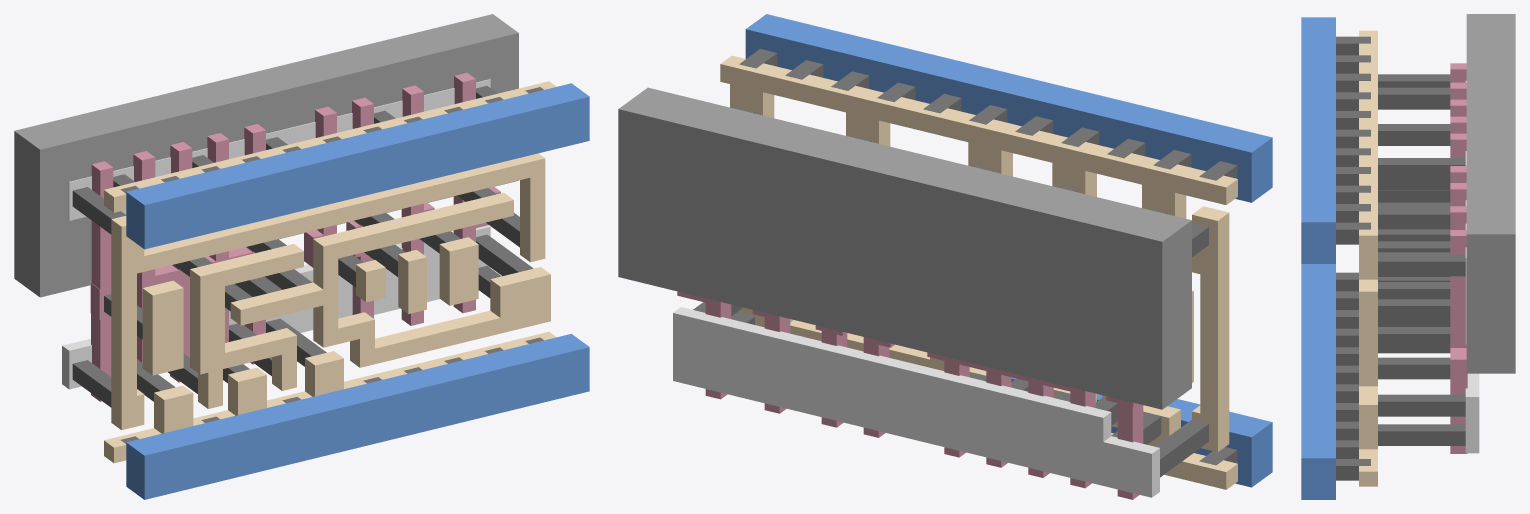
Rendered from sky130_fd_sc_hd__and4b_4.gds.gltf.
3 renders of one model, left to right at view 1: azimuth 30°, elevation 25°; view 2: azimuth 150°, elevation 25°; view 3: azimuth 270°, elevation 25°, orthographic. The views are drawn at different scales.
Parts seen in each view (by area): view 1: sky130_fd_sc_hd__and4b_4_li1, sky130_fd_sc_hd__and4b_4_met1, sky130_fd_sc_hd__and4b_4_nwell, sky130_fd_sc_hd__and4b_4_poly, sky130_fd_sc_hd__and4b_4_licon, sky130_fd_sc_hd__and4b_4_diff, sky130_fd_sc_hd__and4b_4_mcon; view 2: sky130_fd_sc_hd__and4b_4_nwell, sky130_fd_sc_hd__and4b_4_diff, sky130_fd_sc_hd__and4b_4_li1, sky130_fd_sc_hd__and4b_4_met1, sky130_fd_sc_hd__and4b_4_poly, sky130_fd_sc_hd__and4b_4_mcon, sky130_fd_sc_hd__and4b_4_licon; view 3: sky130_fd_sc_hd__and4b_4_licon, sky130_fd_sc_hd__and4b_4_nwell, sky130_fd_sc_hd__and4b_4_met1, sky130_fd_sc_hd__and4b_4_mcon, sky130_fd_sc_hd__and4b_4_li1, sky130_fd_sc_hd__and4b_4_poly, sky130_fd_sc_hd__and4b_4_diff.
Boxes of the visible parts, box(x1,y1,x2,y2) form: sky130_fd_sc_hd__and4b_4_li1: box(104, 81, 556, 463); sky130_fd_sc_hd__and4b_4_met1: box(126, 83, 589, 499); sky130_fd_sc_hd__and4b_4_nwell: box(14, 14, 518, 297); sky130_fd_sc_hd__and4b_4_poly: box(90, 72, 500, 401); sky130_fd_sc_hd__and4b_4_licon: box(72, 86, 533, 407); sky130_fd_sc_hd__and4b_4_diff: box(62, 79, 490, 389); sky130_fd_sc_hd__and4b_4_mcon: box(120, 87, 543, 443); sky130_fd_sc_hd__and4b_4_nwell: box(618, 87, 1191, 409); sky130_fd_sc_hd__and4b_4_diff: box(673, 307, 1159, 497); sky130_fd_sc_hd__and4b_4_li1: box(720, 55, 1237, 489); sky130_fd_sc_hd__and4b_4_met1: box(745, 14, 1272, 487); sky130_fd_sc_hd__and4b_4_poly: box(677, 291, 1143, 499); sky130_fd_sc_hd__and4b_4_mcon: box(739, 49, 1237, 465); sky130_fd_sc_hd__and4b_4_licon: box(693, 108, 1208, 477); sky130_fd_sc_hd__and4b_4_licon: box(1378, 74, 1465, 445); sky130_fd_sc_hd__and4b_4_nwell: box(1466, 14, 1515, 373); sky130_fd_sc_hd__and4b_4_met1: box(1301, 17, 1335, 499); sky130_fd_sc_hd__and4b_4_mcon: box(1336, 36, 1370, 480); sky130_fd_sc_hd__and4b_4_li1: box(1359, 30, 1377, 486); sky130_fd_sc_hd__and4b_4_poly: box(1450, 63, 1467, 453); sky130_fd_sc_hd__and4b_4_diff: box(1465, 80, 1479, 453).
Size of the model in its own units: 5.44 by 3.2 by 2.24.
